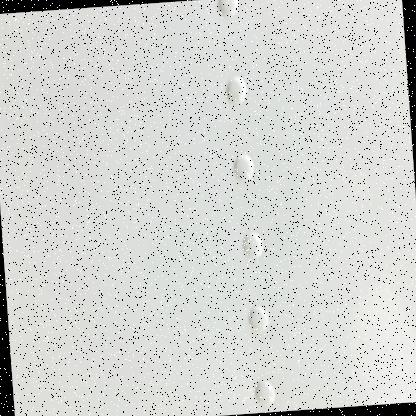Nocrack: (0, 24, 408, 413)
